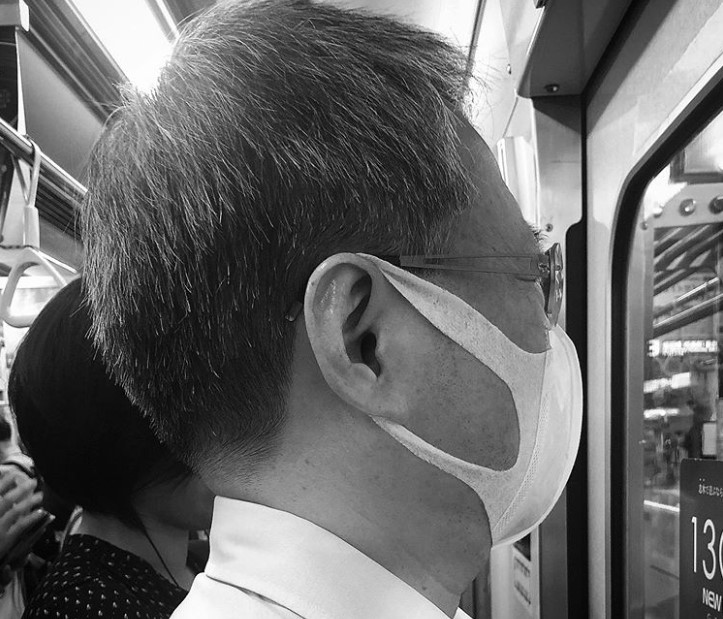face_with_mask: (86, 3, 585, 562)
